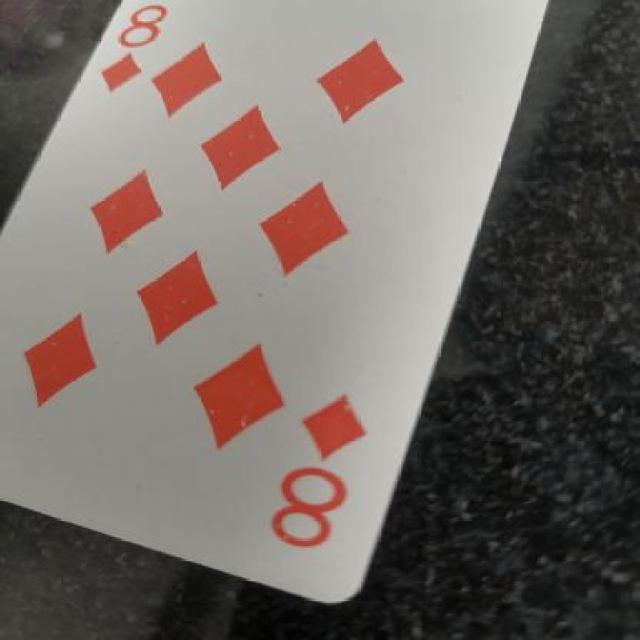8D: (264, 384, 374, 573), (80, 0, 188, 103)
